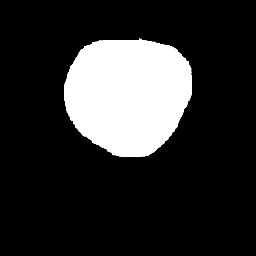mass: (66, 38, 186, 146)
